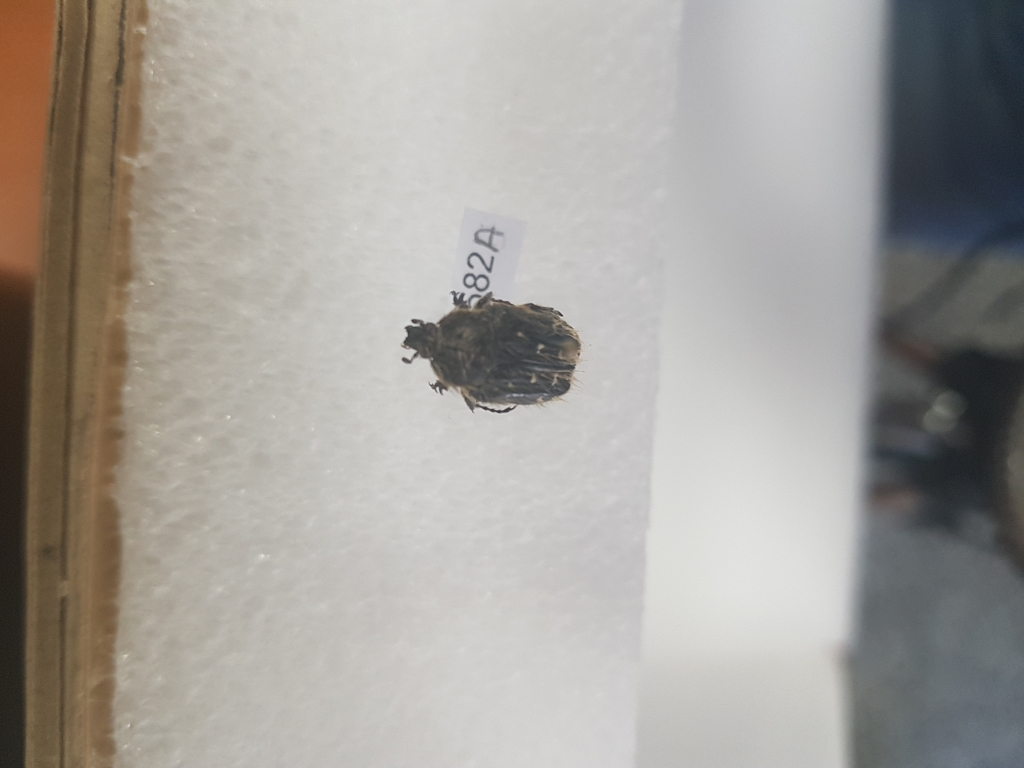Tropinota_hirta: (402, 275, 608, 420)
